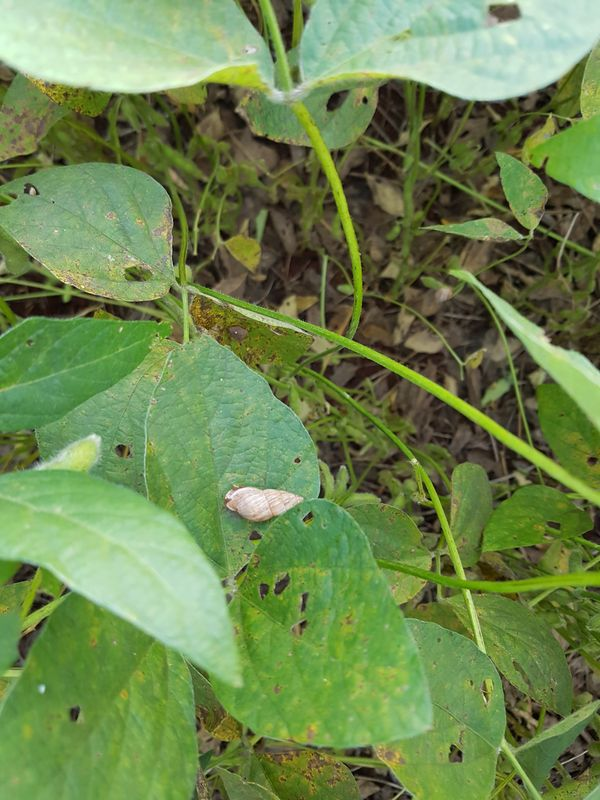Euschistus_heros_adulto: (223, 322, 254, 350)
Gastropoda: (216, 472, 310, 539)
